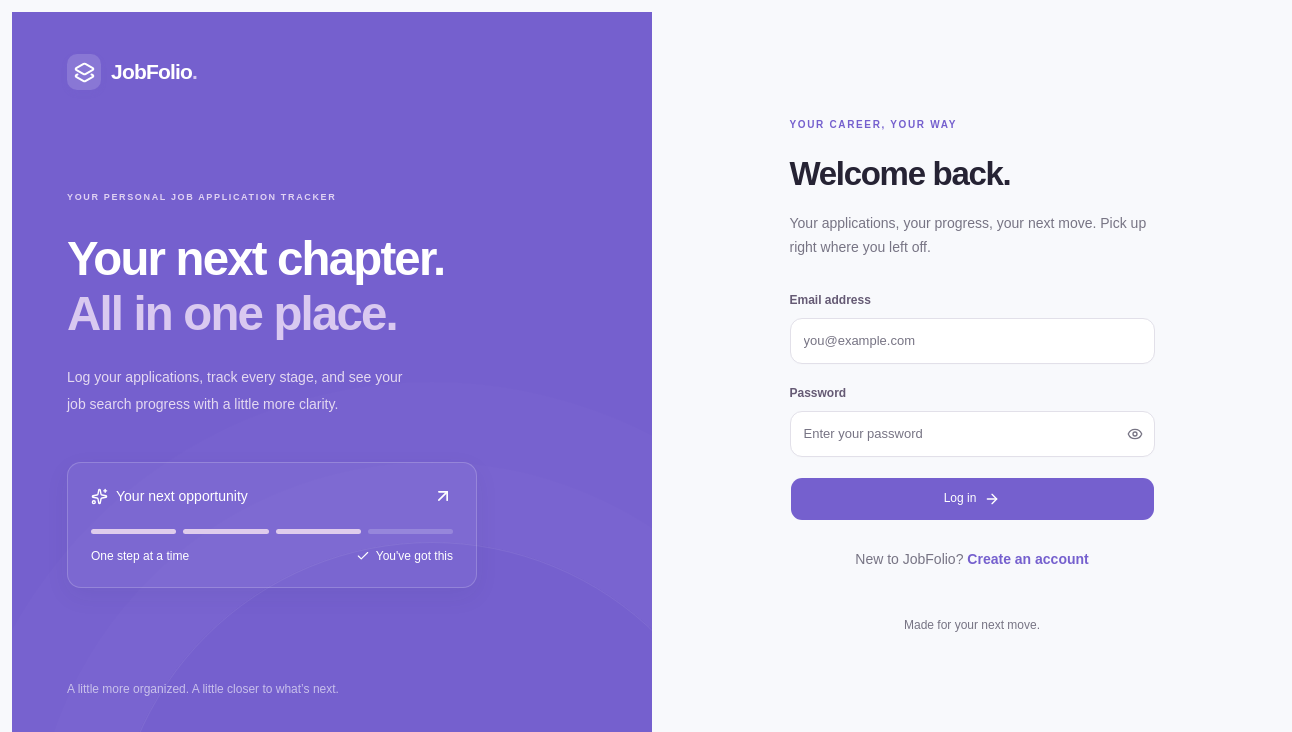
Test case: LoginPage › sends credentials, authenticates the user, and navigates to the dashboard
The image size is (1292, 732).
Type "rizal@example.com" into the field labelled "Email address" at (972, 341), box x1=790 y1=318 x2=1154 y2=364
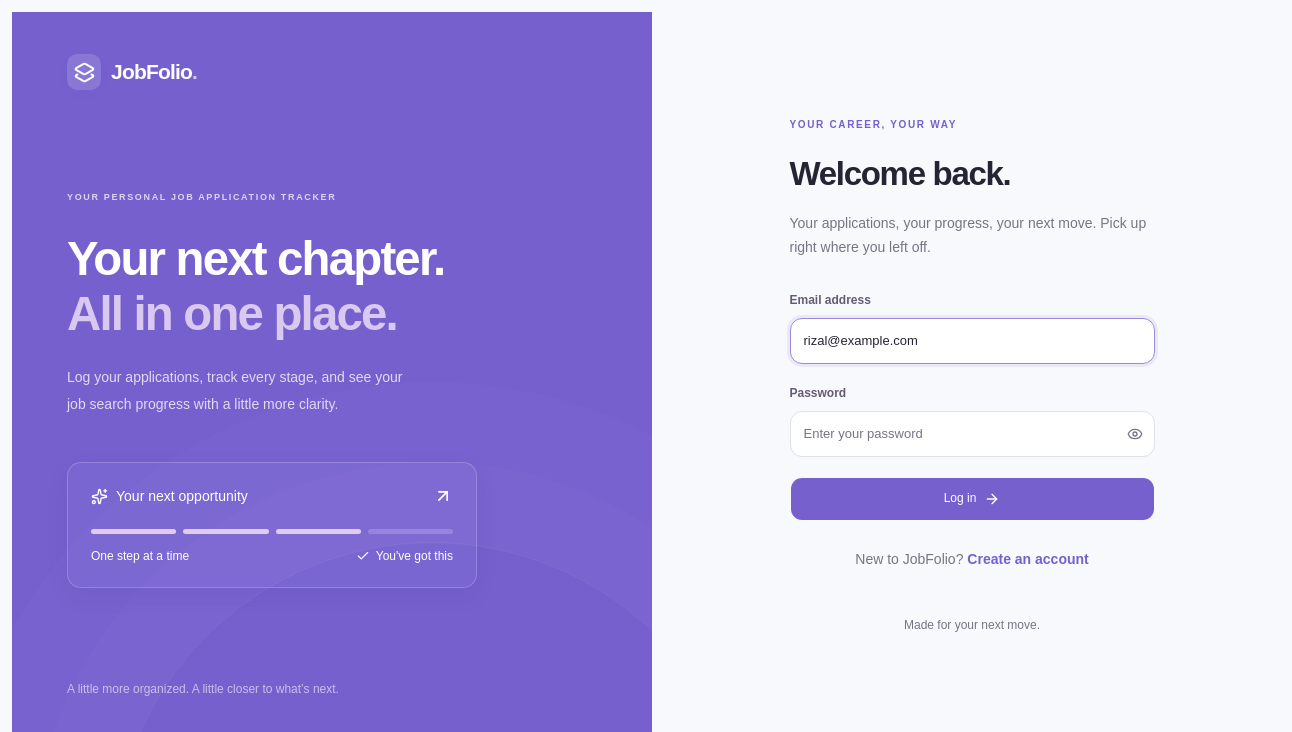
Type "password123" into the password field with placeholder "Enter your password" at (972, 434), box x1=790 y1=411 x2=1154 y2=457
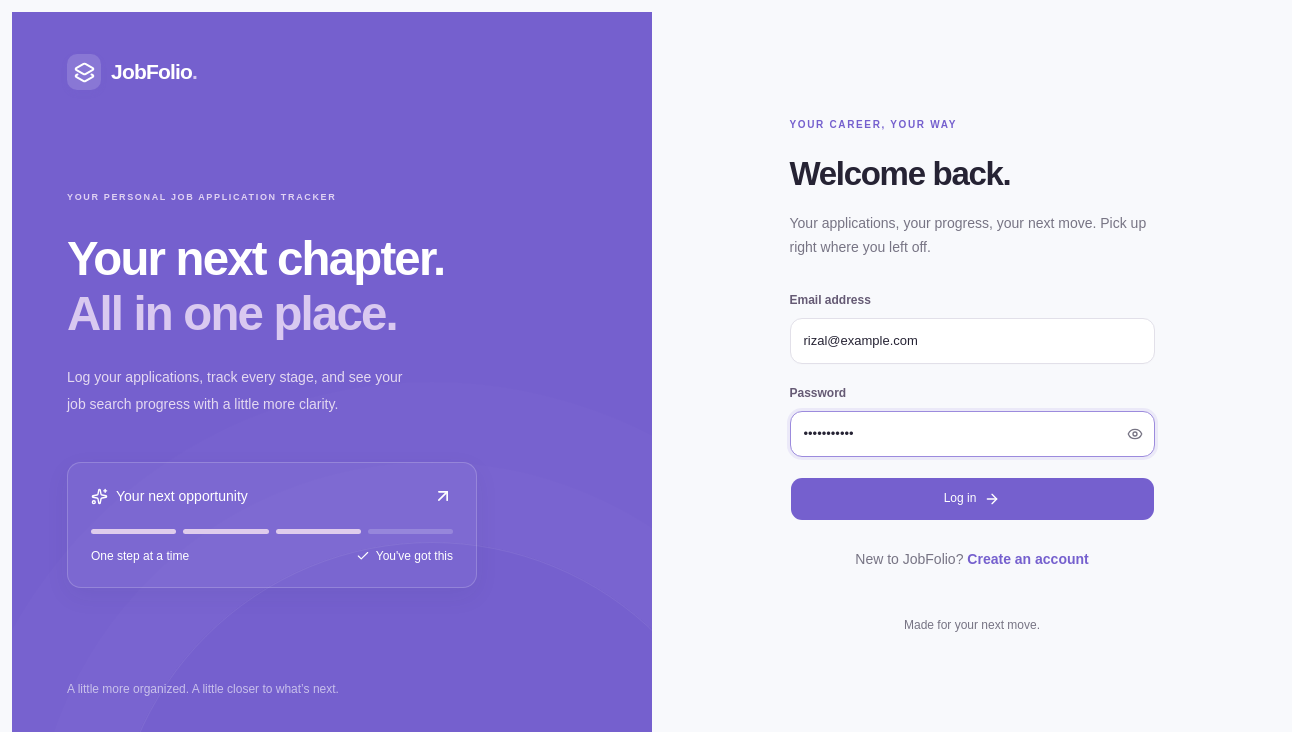
Click the button "Log in" at (972, 499), box x1=790 y1=477 x2=1154 y2=521
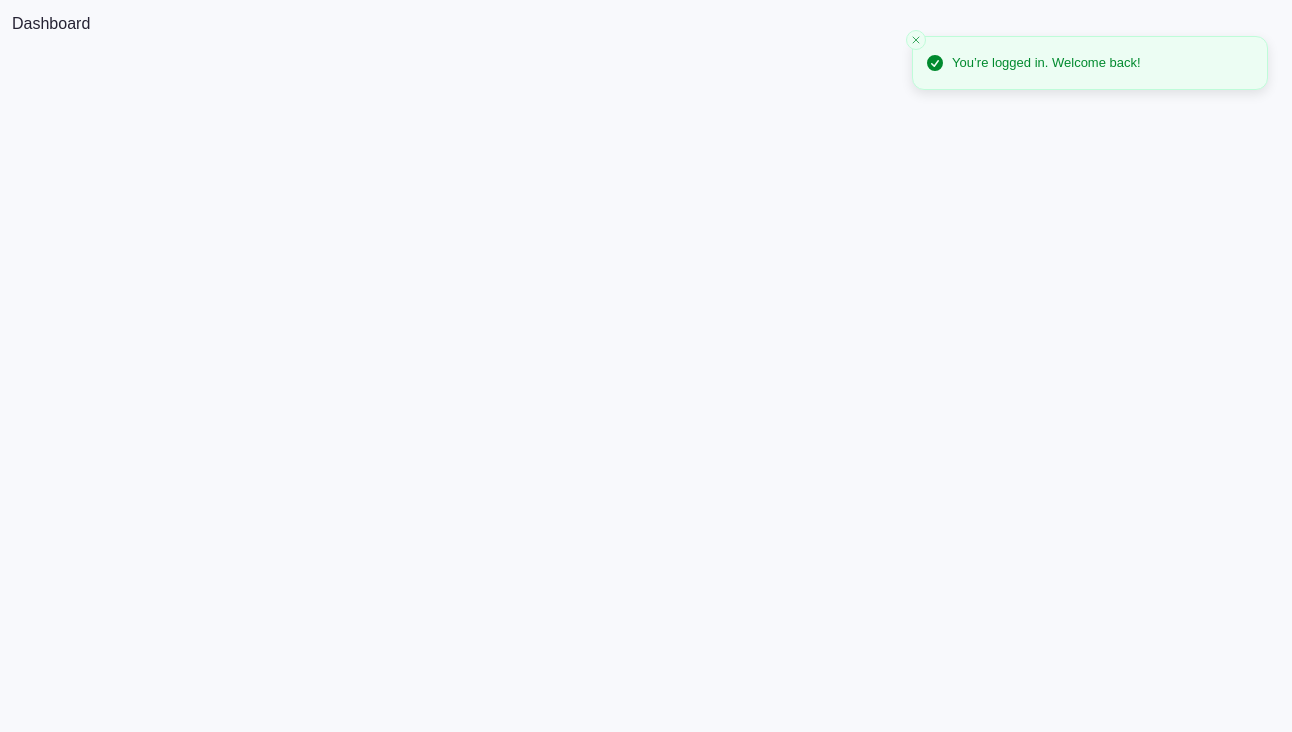
Now the heading "Dashboard" is shown, box x1=12 y1=15 x2=90 y2=32
Now the text "You’re logged in. Welcome back!" is shown, box x1=952 y1=53 x2=1141 y2=72
